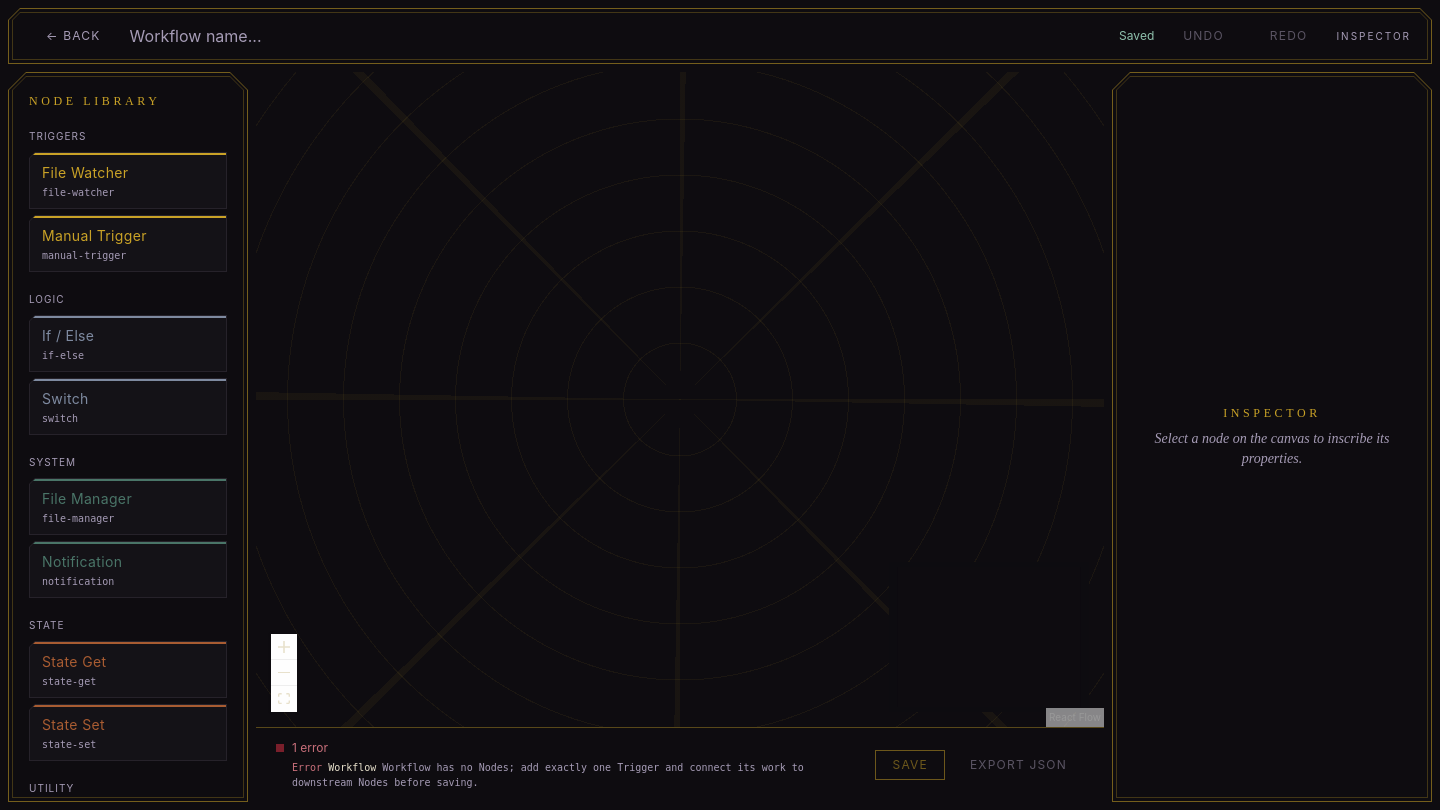
Test case: Workflow Builder renderer behavior › adds a Node from the accessible library and opens its Properties Panel
The image size is (1440, 810).
Click the button "Manual Trigger manual-trigger": (128, 244) [29,215,227,272]
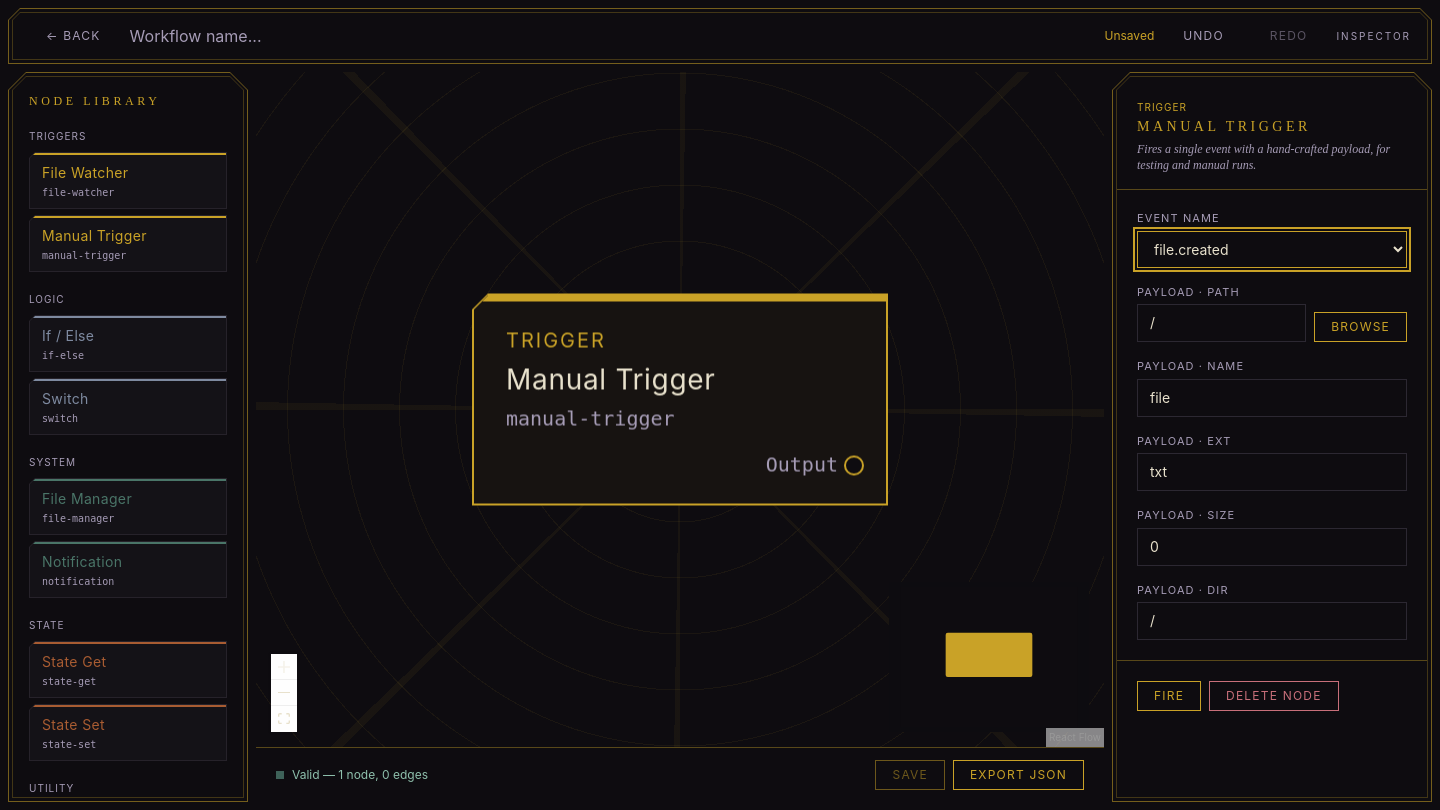
Check: the heading "Manual Trigger" is shown, box [1137,119,1311,134]
Check: the dropdown labelled "Event name" shows "file.created", box [1137,230,1407,268]
Check: the message named "Workflow save status" reads "Unsaved", box [1104,28,1154,43]
